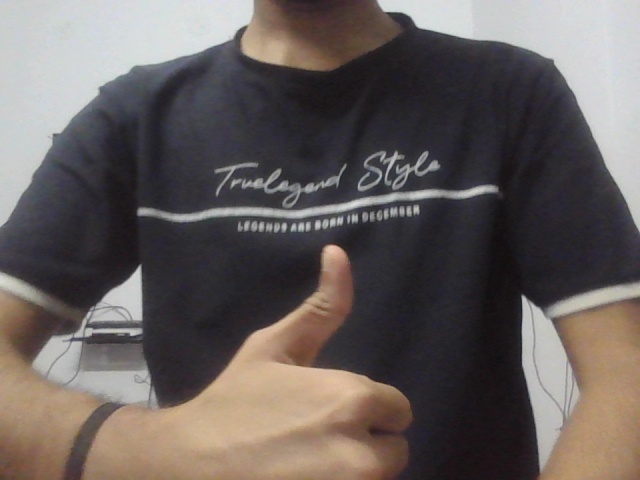Help: (135, 218, 453, 480)
